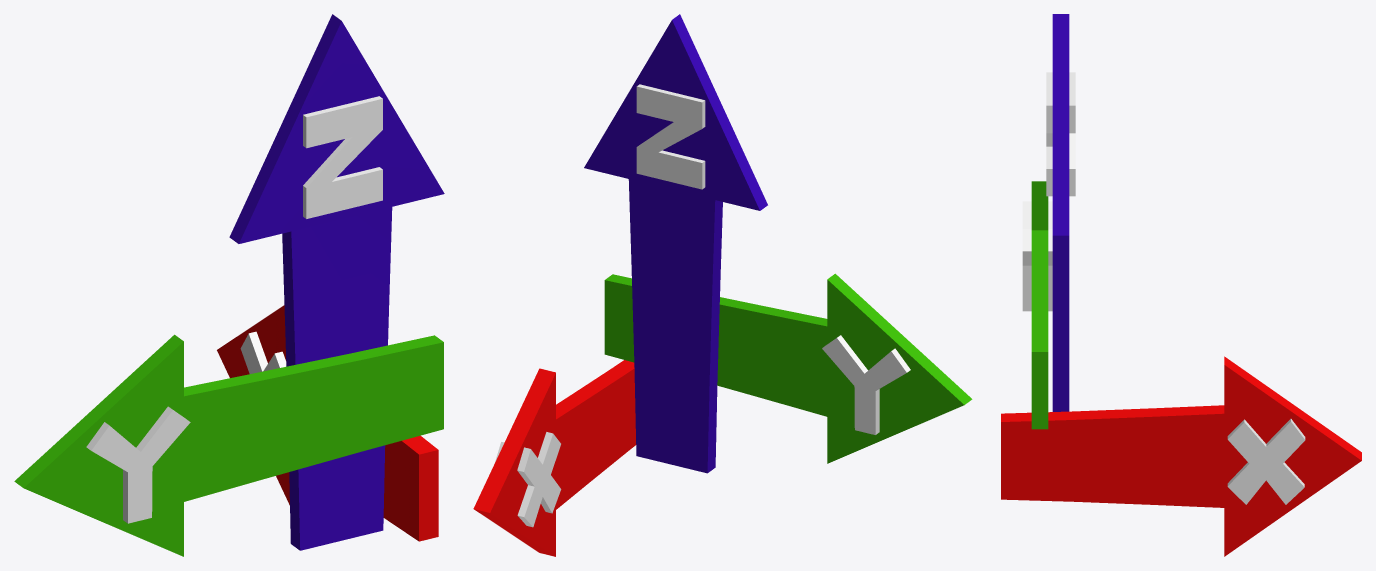
The model's file is unitandup.dae.
The picture shows the model from 3 angles, left to right: view 1: azimuth 30°, elevation 25°; view 2: azimuth 150°, elevation 25°; view 3: azimuth 270°, elevation 25°; orthographic projection. The views are drawn at different scales.
Parts seen in each view (by area): view 1: Box03; view 2: Box03; view 3: Box03.
Part boxes in pixels (x1=…): Box03: x1=14, y1=14, x2=444, y2=556; Box03: x1=473, y1=14, x2=972, y2=556; Box03: x1=1001, y1=14, x2=1361, y2=556.
Bounding box in the file's own units: 239 × 304 × 194.
